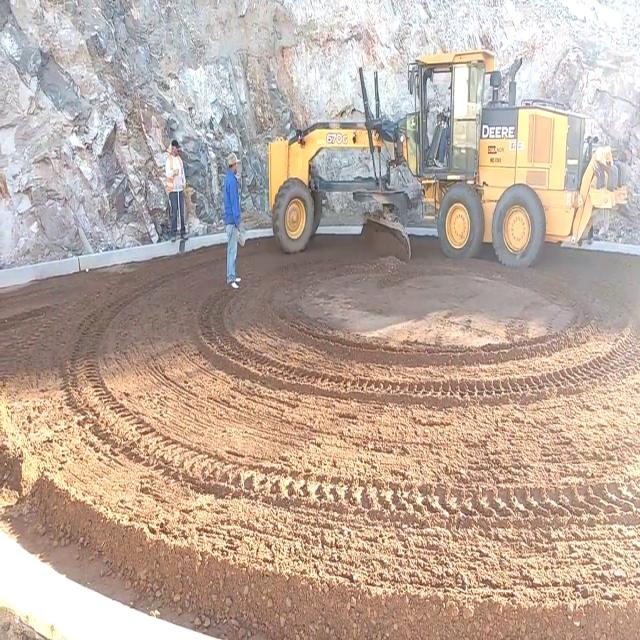buldozerpayloadergrader: (270, 50, 620, 266)
